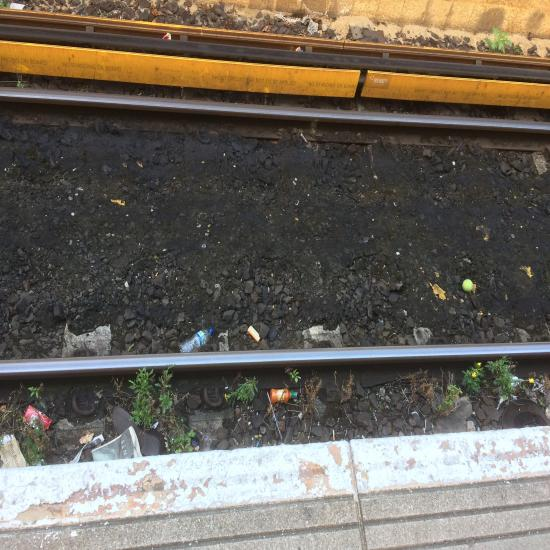Cigarette: (333, 430, 335, 440)
Clear plastic bottle: (179, 327, 214, 353), (270, 388, 297, 403)
Glass bottle: (509, 376, 534, 388)
Normal paper: (91, 426, 143, 461), (69, 434, 104, 464), (301, 16, 319, 35)
Other plastic: (22, 404, 52, 429)
Other plastic bottle: (247, 326, 261, 342), (462, 279, 473, 292)
Paper bag: (0, 437, 26, 469)
Plastic straw: (267, 393, 282, 439)
Pop tab: (215, 284, 220, 287)
Shoe: (112, 406, 166, 456)
Unlabeled litter: (1, 434, 14, 447), (162, 33, 171, 40), (295, 47, 303, 51), (372, 278, 376, 284), (256, 441, 259, 447), (274, 419, 279, 422)
